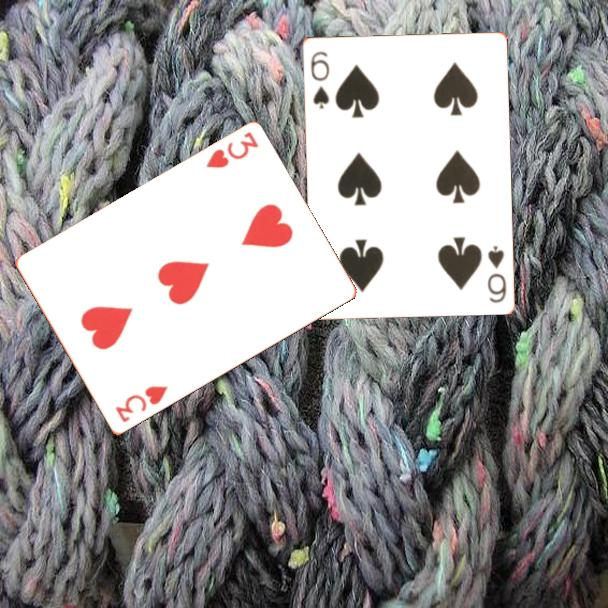h03: (202, 128, 262, 172), (112, 382, 170, 426)
s06: (307, 47, 332, 111), (484, 242, 509, 305)
